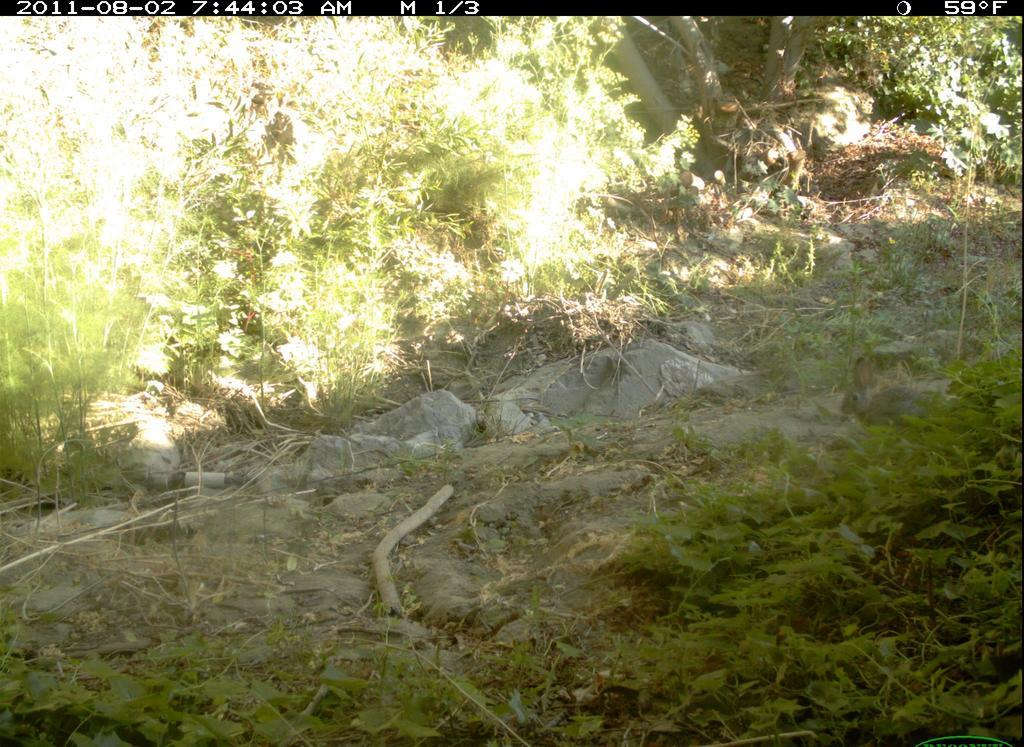rabbit: (835, 355, 949, 434)
